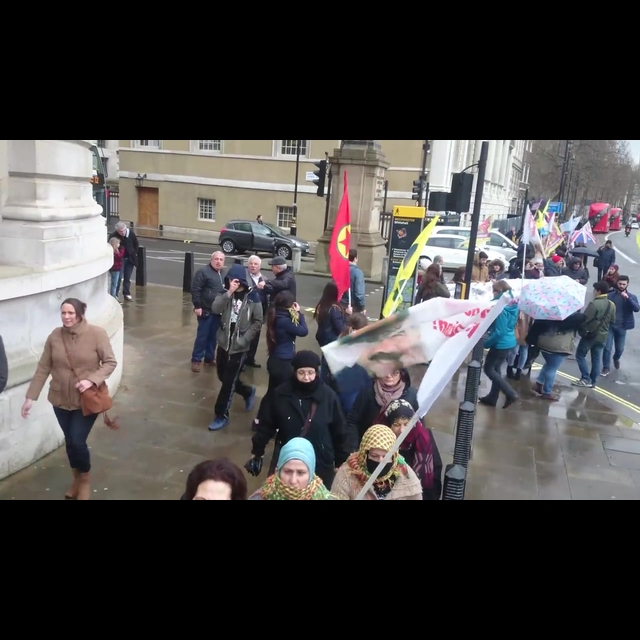PKK: (333, 163, 351, 300)
